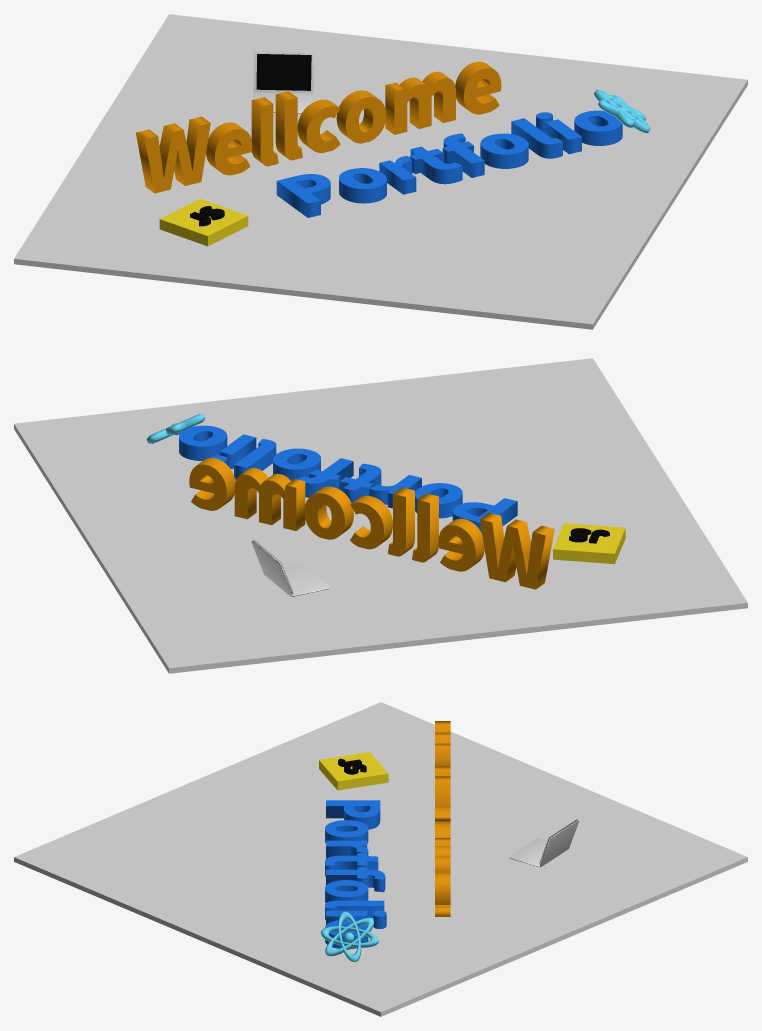
Rendered from portfolio.gltf.
3 renders of one model, top to bottom at view 1: azimuth 30°, elevation 25°; view 2: azimuth 150°, elevation 25°; view 3: azimuth 270°, elevation 25°, orthographic. The views are drawn at different scales.
Parts seen in each view (by area): view 1: plane, wellcome, portfolio, javascriptCube, 平面, 立方體; view 2: plane, wellcome, portfolio, javascriptCube, 立方體.001, 立方體; view 3: plane, portfolio, wellcome, javascriptCube, 立方體, 立方體.001, reactCircle2, reactCircle3.
Part boxes in pixels (x1,y1,x2,y2): plane: [14, 14, 747, 329]; wellcome: [136, 61, 501, 193]; portfolio: [276, 110, 622, 217]; javascriptCube: [159, 199, 248, 246]; 平面: [256, 54, 311, 90]; 立方體: [253, 52, 313, 93]; plane: [14, 358, 747, 673]; wellcome: [189, 458, 554, 589]; portfolio: [179, 425, 517, 533]; javascriptCube: [553, 523, 625, 564]; 立方體.001: [283, 563, 329, 596]; 立方體: [251, 540, 293, 596]; plane: [14, 702, 747, 1016]; portfolio: [325, 800, 386, 949]; wellcome: [435, 721, 450, 916]; javascriptCube: [319, 752, 388, 790]; 立方體: [539, 819, 579, 866]; 立方體.001: [509, 838, 547, 867]; reactCircle2: [325, 917, 374, 956]; reactCircle3: [321, 926, 378, 947].
Bounding box in the file's own units: 28.28 × 2.46 × 28.28.
